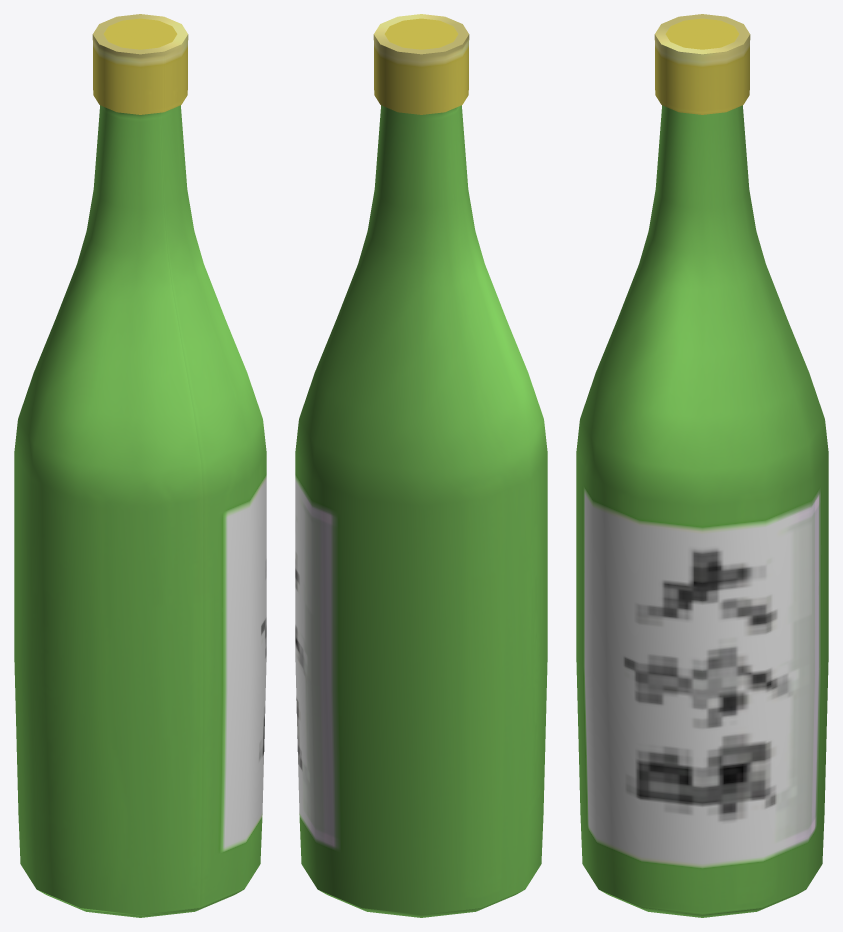
Rendered from sakabin.fbx.
The picture shows the model from 3 angles, left to right: view 1: azimuth 30°, elevation 25°; view 2: azimuth 150°, elevation 25°; view 3: azimuth 270°, elevation 25°; orthographic projection.
Visible parts, largest first — view 1: _006_sakabin; view 2: _006_sakabin; view 3: _006_sakabin.
Part boxes in pixels (x1,y1,x2,y2): _006_sakabin: (14, 14, 266, 917); _006_sakabin: (295, 14, 547, 917); _006_sakabin: (576, 14, 828, 917).
Bounding box in the file's own units: 1.15 × 4.21 × 1.15.
